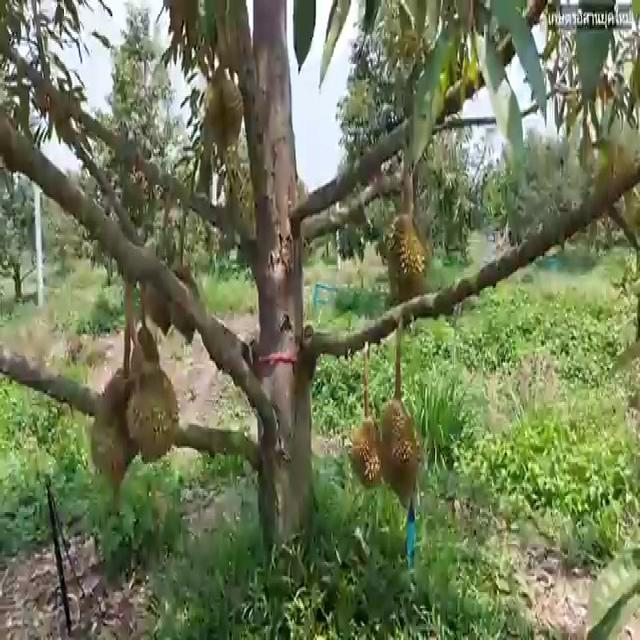durian: (88, 366, 149, 486), (126, 360, 178, 466), (376, 394, 422, 501), (386, 209, 431, 305), (202, 68, 245, 152), (140, 251, 177, 341), (348, 417, 388, 493), (168, 262, 202, 348)
